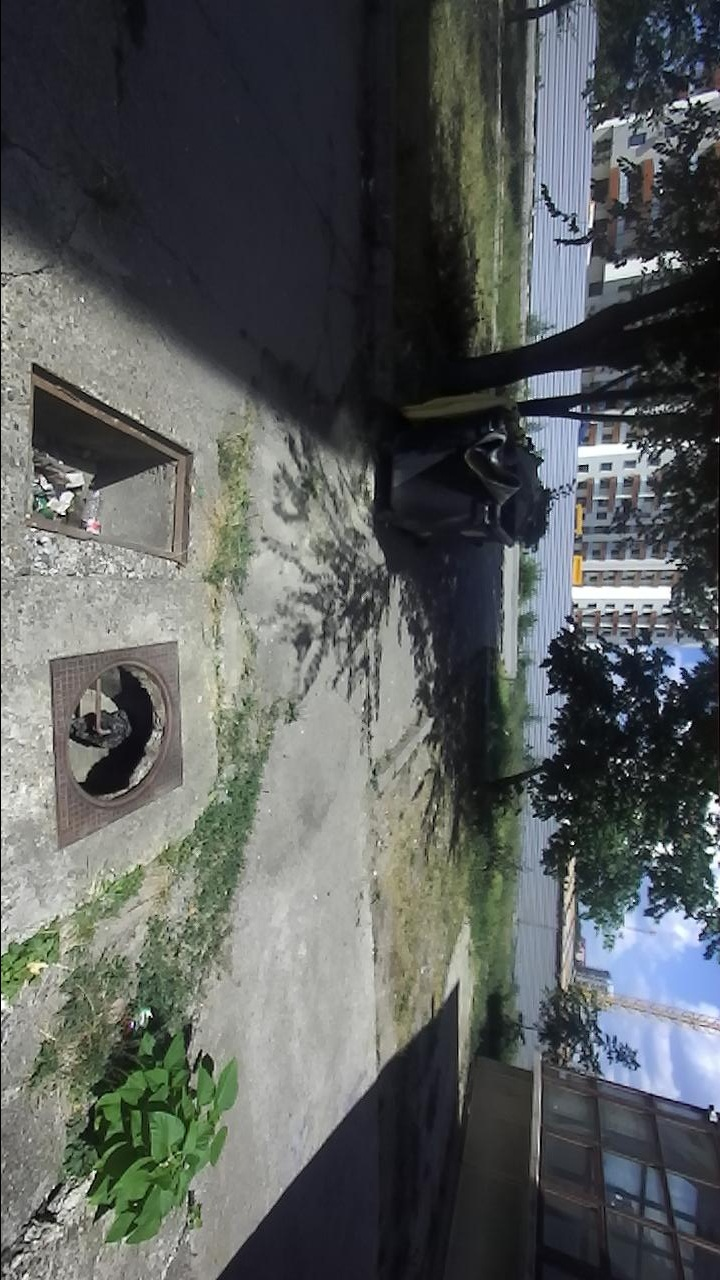drain: (23, 360, 199, 572), (63, 658, 179, 818)
